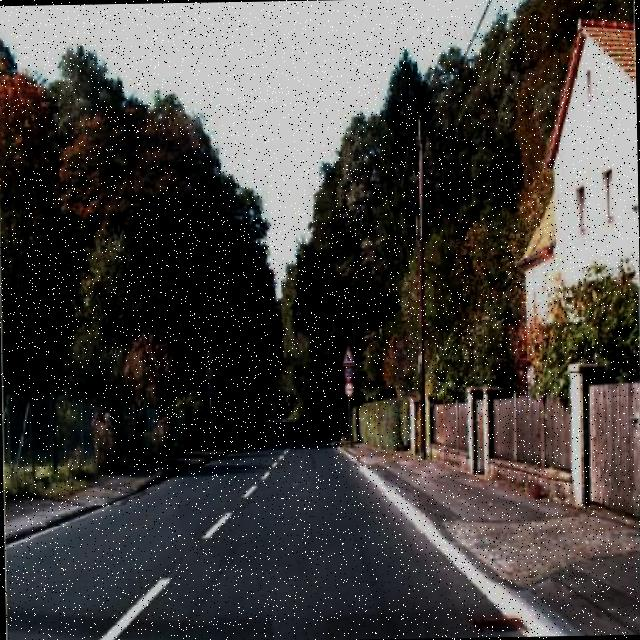Ograniczenie predkosci do 50: (202, 365, 216, 382), (342, 366, 353, 382)
